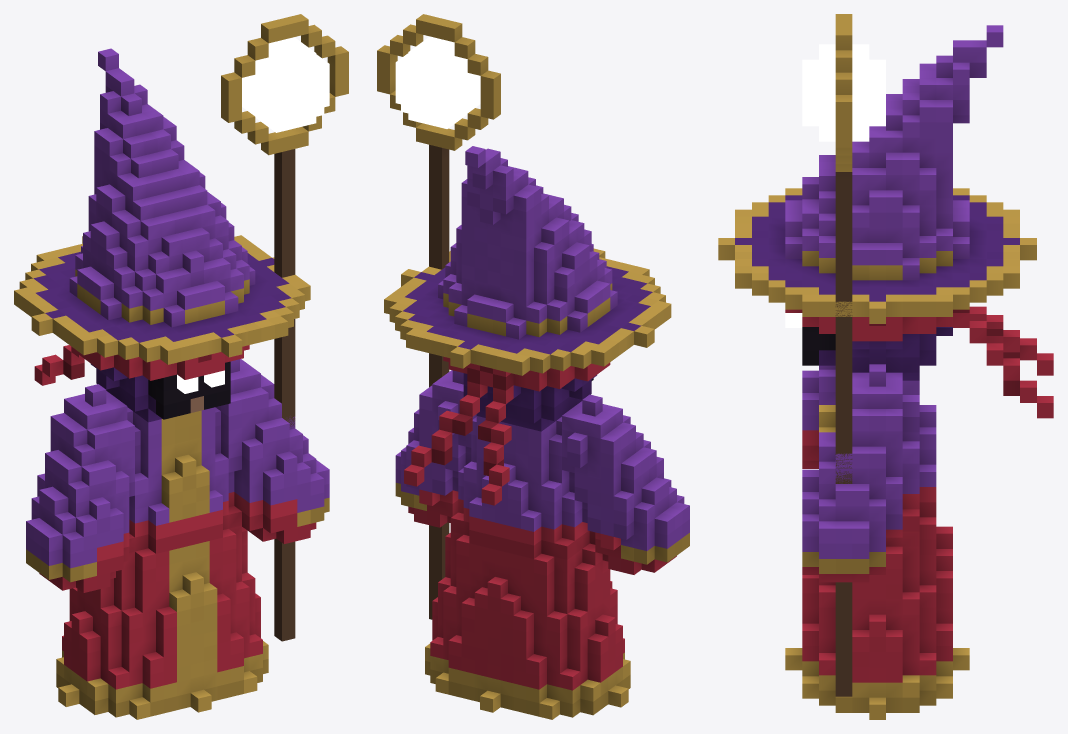
File: u_oracle__lame.glb
3 renders of one model, left to right at view 1: azimuth 30°, elevation 25°; view 2: azimuth 150°, elevation 25°; view 3: azimuth 270°, elevation 25°, orthographic. The views are drawn at different scales.
Visible parts, largest first — view 1: oracle_body, oracle_weapon, oracle_weaponglow, oracle_glow; view 2: oracle_body, oracle_weapon, oracle_weaponglow; view 3: oracle_body, oracle_weapon, oracle_weaponglow.
Boxes of the visible parts, x1=… form: oracle_body: x1=14, y1=48, x2=329, y2=719; oracle_weapon: x1=221, y1=14, x2=348, y2=641; oracle_weaponglow: x1=242, y1=37, x2=329, y2=132; oracle_glow: x1=177, y1=370, x2=224, y2=393; oracle_body: x1=384, y1=146, x2=689, y2=719; oracle_weapon: x1=377, y1=14, x2=500, y2=619; oracle_weaponglow: x1=395, y1=36, x2=480, y2=128; oracle_body: x1=718, y1=25, x2=1053, y2=719; oracle_weapon: x1=835, y1=14, x2=852, y2=696; oracle_weaponglow: x1=802, y1=44, x2=885, y2=141.
Bounding box in the file's own units: 1.15 × 2.3 × 1.
